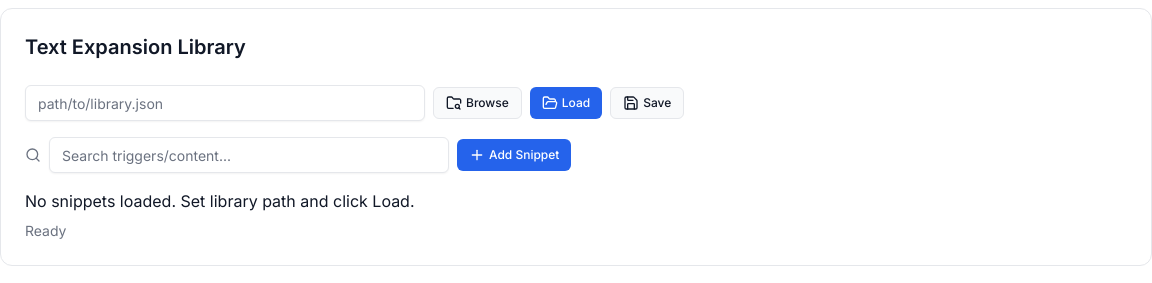
it: LibraryTab › updates library path when Browse returns a path
Step 1. Click the button with aria-label "Browse for library file" → (477, 103), box top-left (433, 87), bottom-right (522, 119)
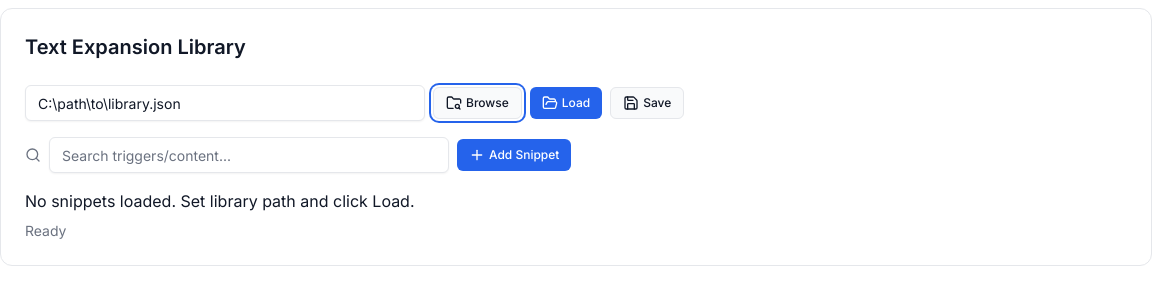
Expected: the field named "Library file path" holds "C:\\path\\to\\library.json", top-left (25, 85), bottom-right (425, 121)
